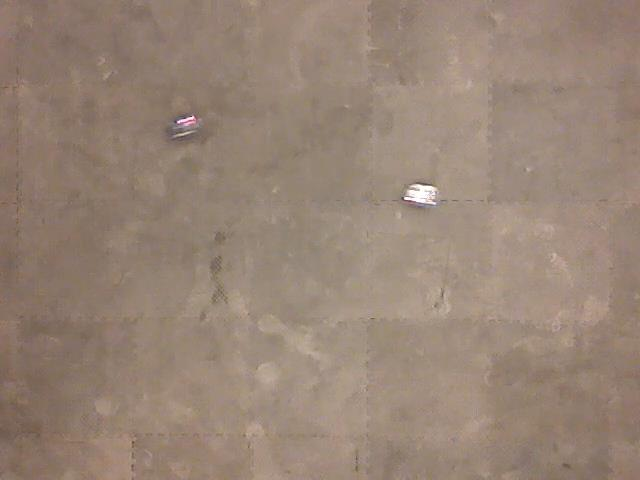Agent: (399, 180, 441, 211), (166, 111, 203, 143)
